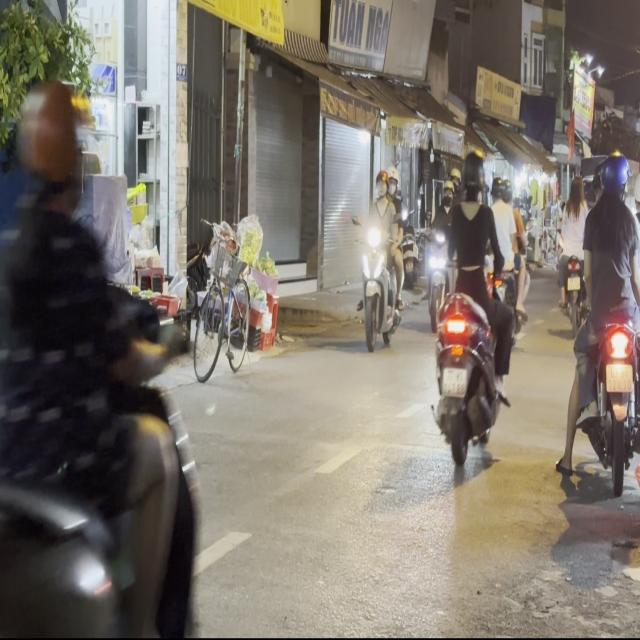helmet: (14, 80, 85, 212), (599, 152, 627, 198), (458, 149, 483, 199), (373, 168, 388, 199), (386, 166, 397, 195)
licenseplate: (0, 75, 211, 631), (427, 146, 514, 473), (558, 147, 640, 491), (356, 165, 405, 350)
nohelmet: (442, 368, 468, 397), (606, 362, 632, 391)
